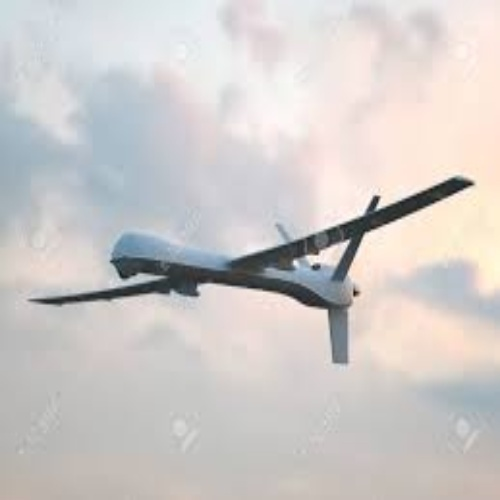uav: (25, 176, 474, 369)
